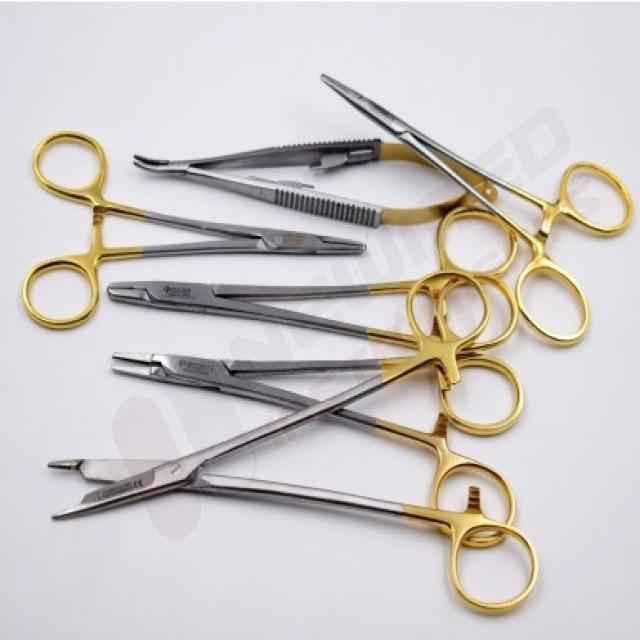Needle Holder: (46, 269, 546, 615), (111, 344, 572, 553), (101, 203, 522, 427), (318, 56, 630, 346), (21, 130, 373, 328)
